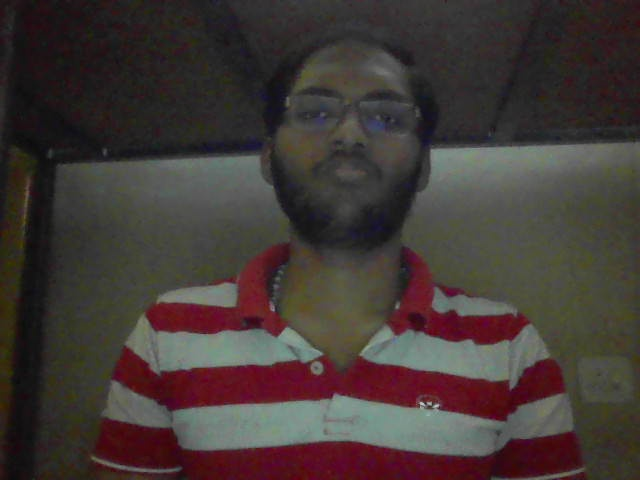Neutral: (256, 27, 473, 305)
